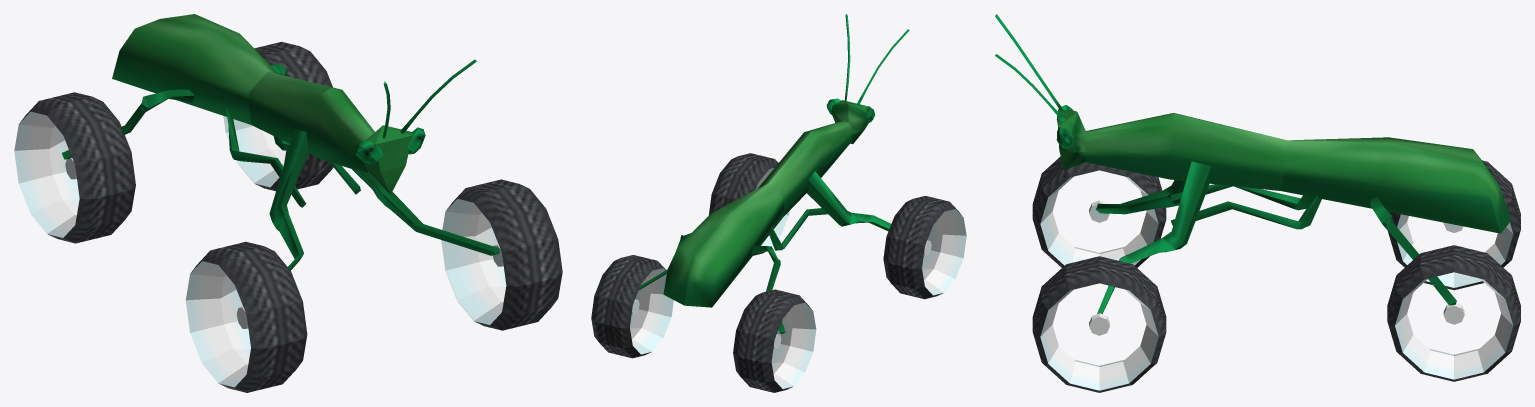
The model's file is praying-mantis.glb.
The picture shows the model from 3 angles, left to right: view 1: azimuth 30°, elevation 25°; view 2: azimuth 150°, elevation 25°; view 3: azimuth 270°, elevation 25°; orthographic projection. The views are drawn at different scales.
Parts seen in each view (by area): view 1: wheel8 (×4), ZtoY, legs4, eyes64, antenna4; view 2: wheel8 (×4), ZtoY, legs4, antenna4; view 3: ZtoY, wheel8 (×4), legs4, antenna4.
Boxes of the visible parts, x1=… form: wheel8 (×4): x1=14, y1=41, x2=562, y2=392; ZtoY: x1=112, y1=14, x2=413, y2=194; legs4: x1=62, y1=63, x2=499, y2=270; eyes64: x1=354, y1=127, x2=425, y2=164; antenna4: x1=382, y1=59, x2=476, y2=138; wheel8 (×4): x1=591, y1=153, x2=966, y2=392; ZtoY: x1=663, y1=100, x2=873, y2=307; legs4: x1=638, y1=171, x2=891, y2=334; antenna4: x1=844, y1=14, x2=909, y2=104; ZtoY: x1=1058, y1=110, x2=1510, y2=233; wheel8 (×4): x1=1032, y1=156, x2=1520, y2=392; legs4: x1=1095, y1=161, x2=1456, y2=313; antenna4: x1=995, y1=14, x2=1065, y2=121.
Bounding box in the file's own units: 4.82 × 4.79 × 7.76.
Materials: 5 (5 with a texture image).
